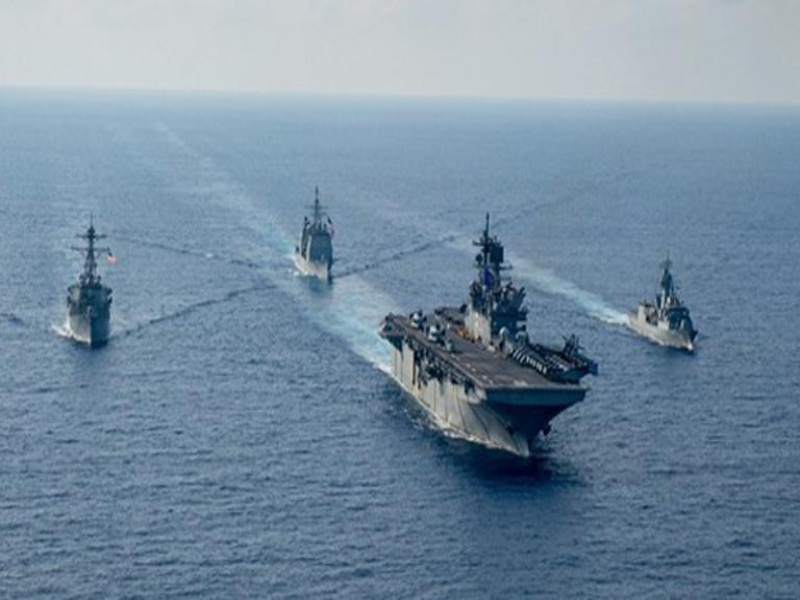carrier: (387, 227, 592, 464)
cruise: (58, 231, 126, 350), (633, 263, 700, 359), (285, 184, 344, 288)
